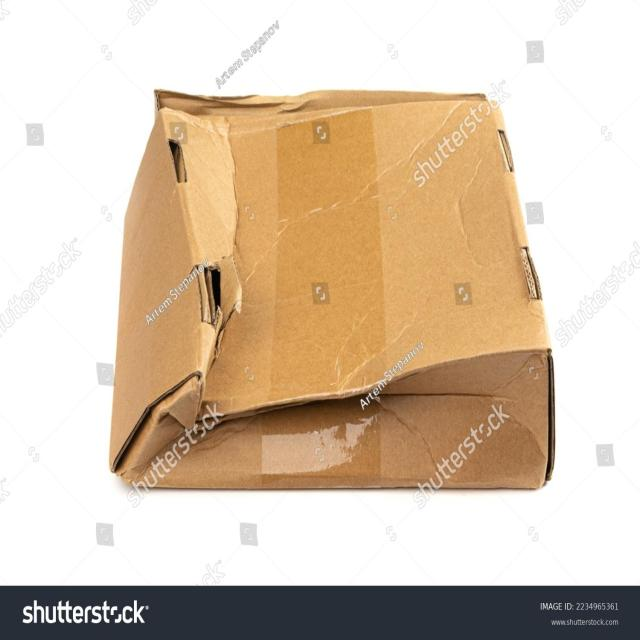Garbage: (105, 75, 563, 511)
